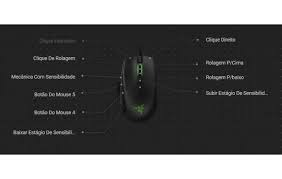mouse: (117, 48, 160, 130)
